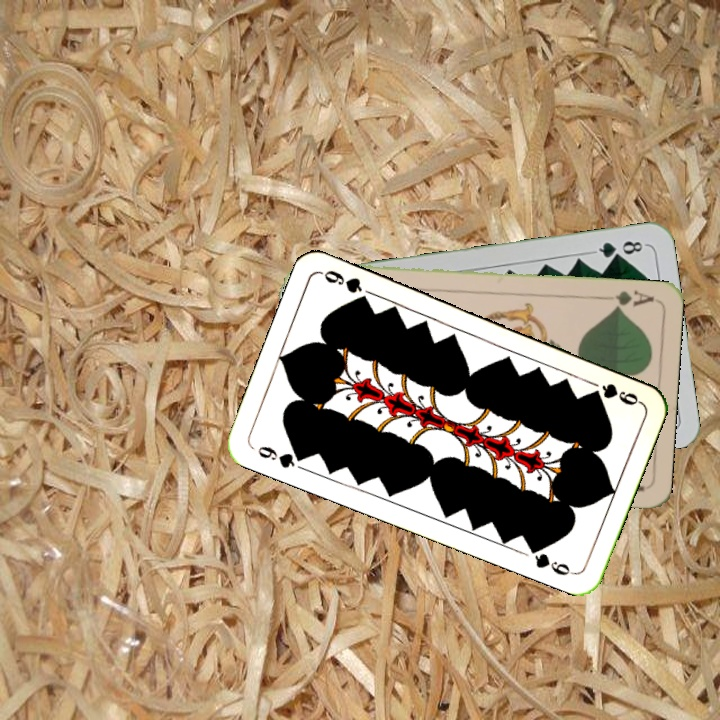G8: (589, 236, 646, 261)
G9: (586, 377, 643, 408), (253, 442, 310, 471)
GA: (598, 286, 656, 313)
